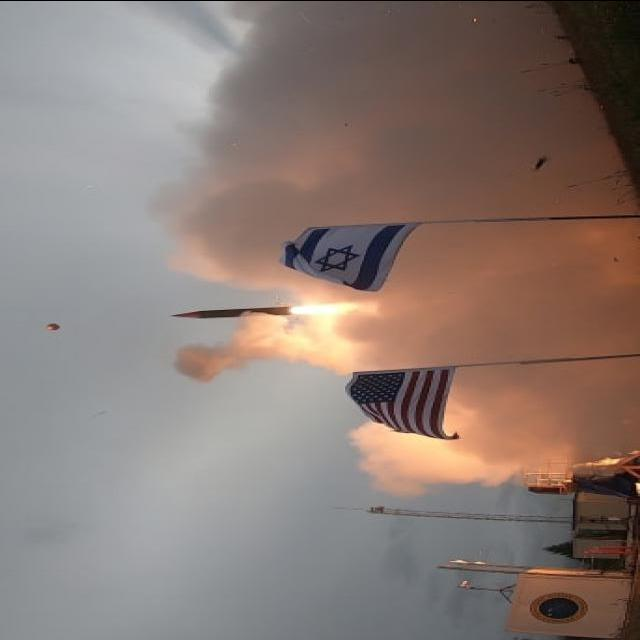missile: (156, 303, 302, 322)
